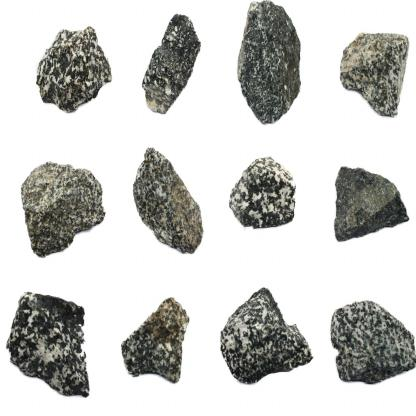Igneous_Diorite: (216, 289, 312, 394), (127, 141, 208, 259), (18, 158, 106, 262), (7, 280, 90, 388), (235, 0, 302, 126), (328, 300, 416, 395), (108, 286, 188, 386), (328, 149, 412, 242), (332, 23, 410, 122), (37, 21, 117, 116), (140, 9, 198, 114), (226, 152, 300, 230)
